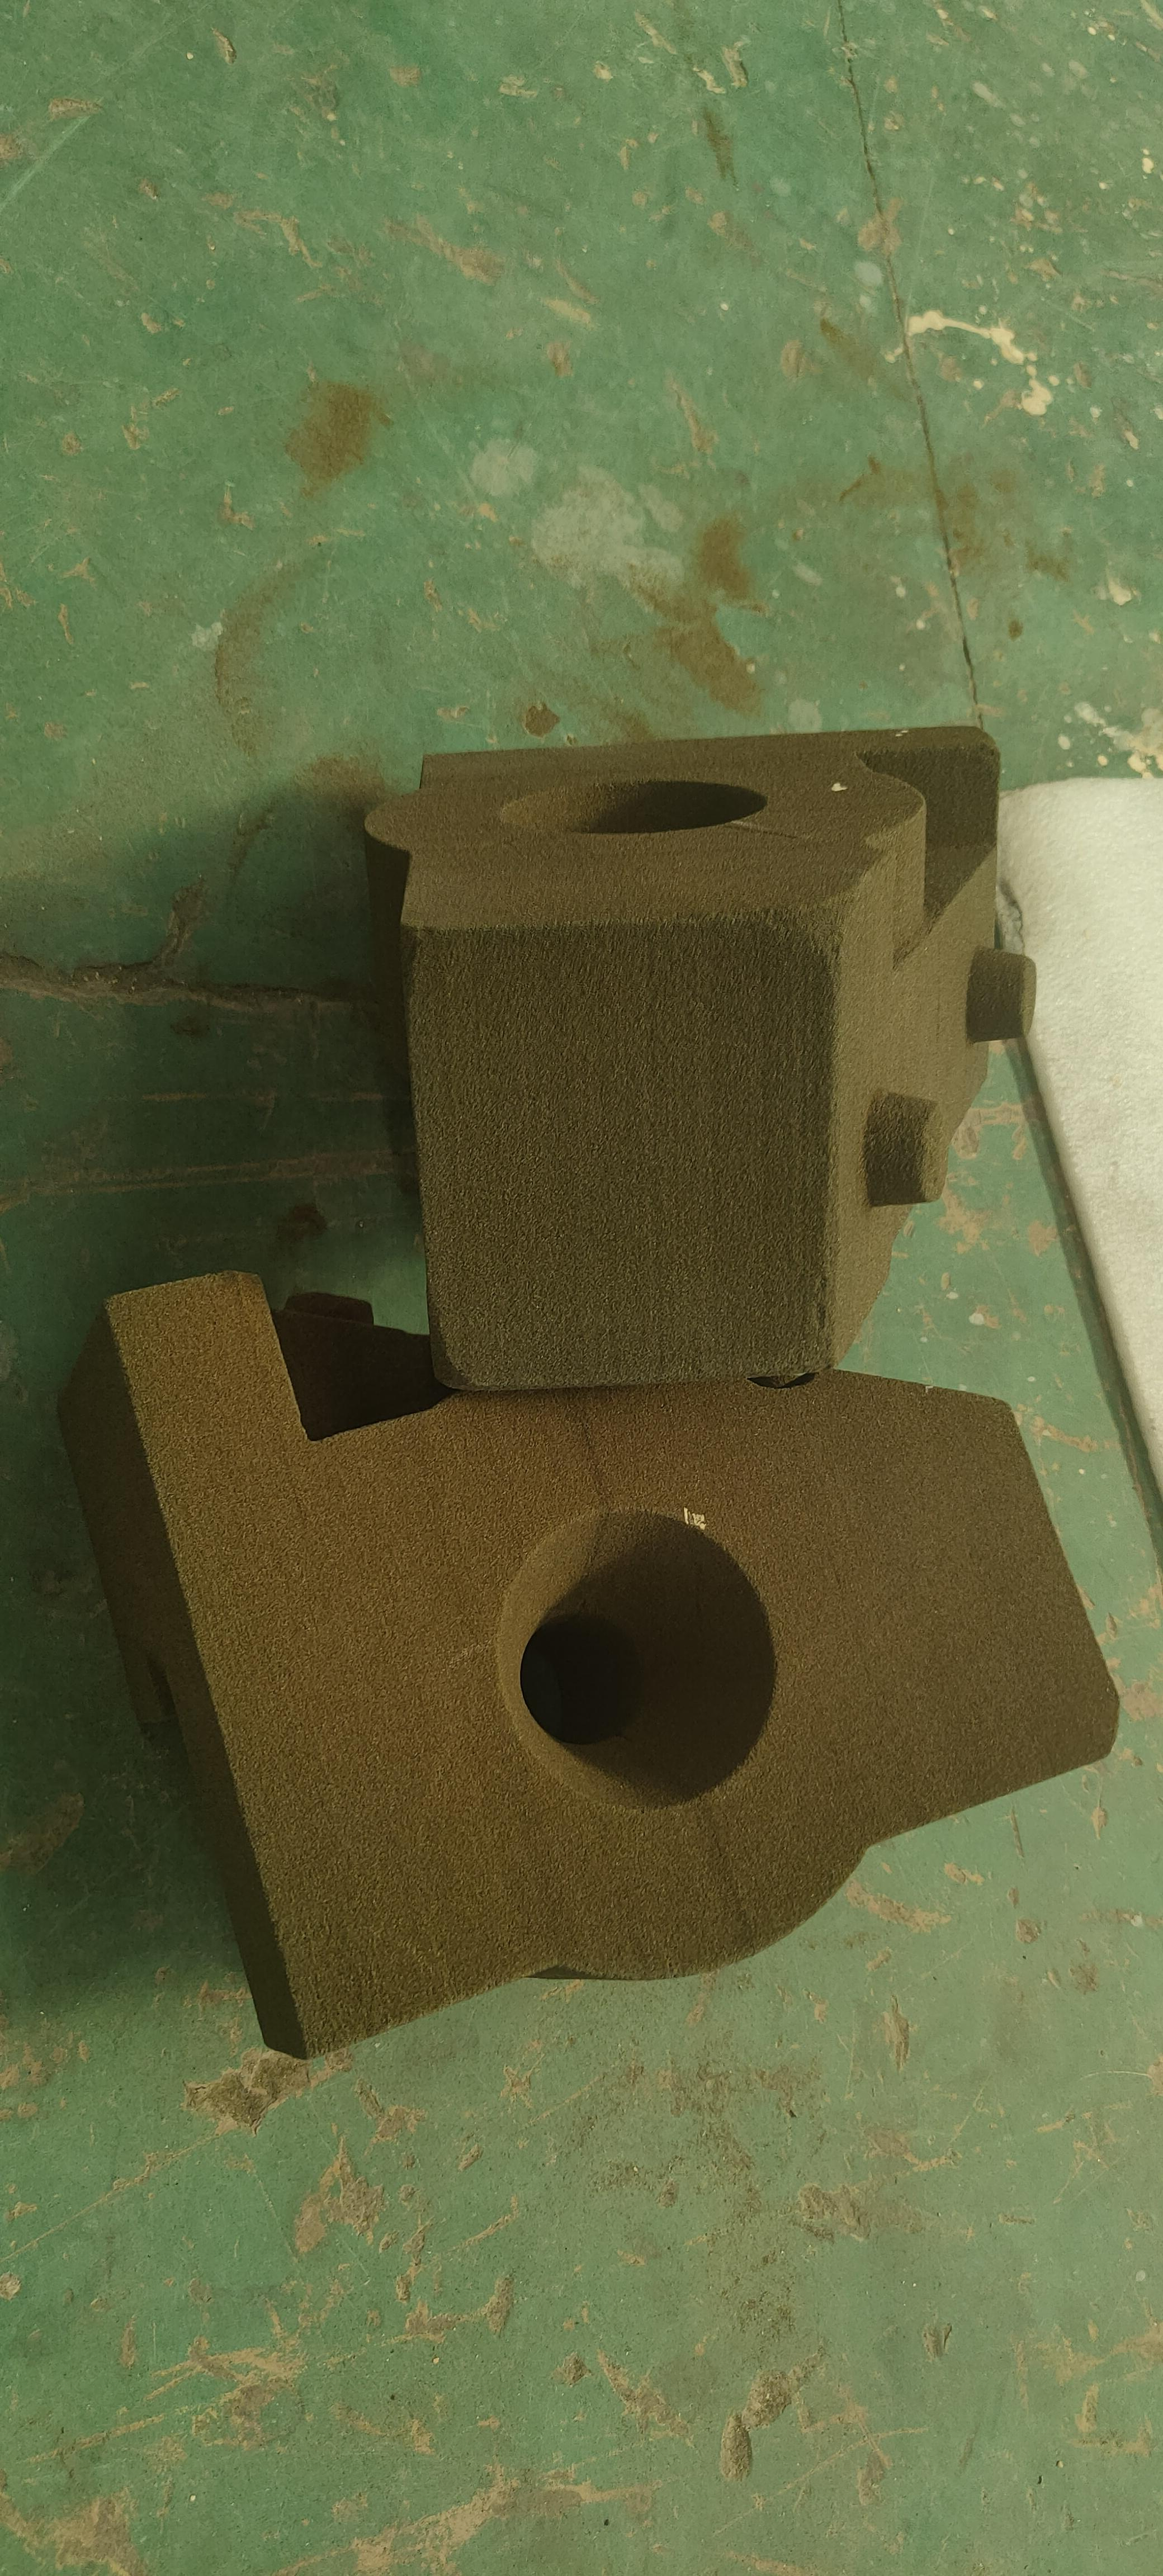pouring hole: (494, 1505, 777, 1810), (499, 780, 769, 835)
